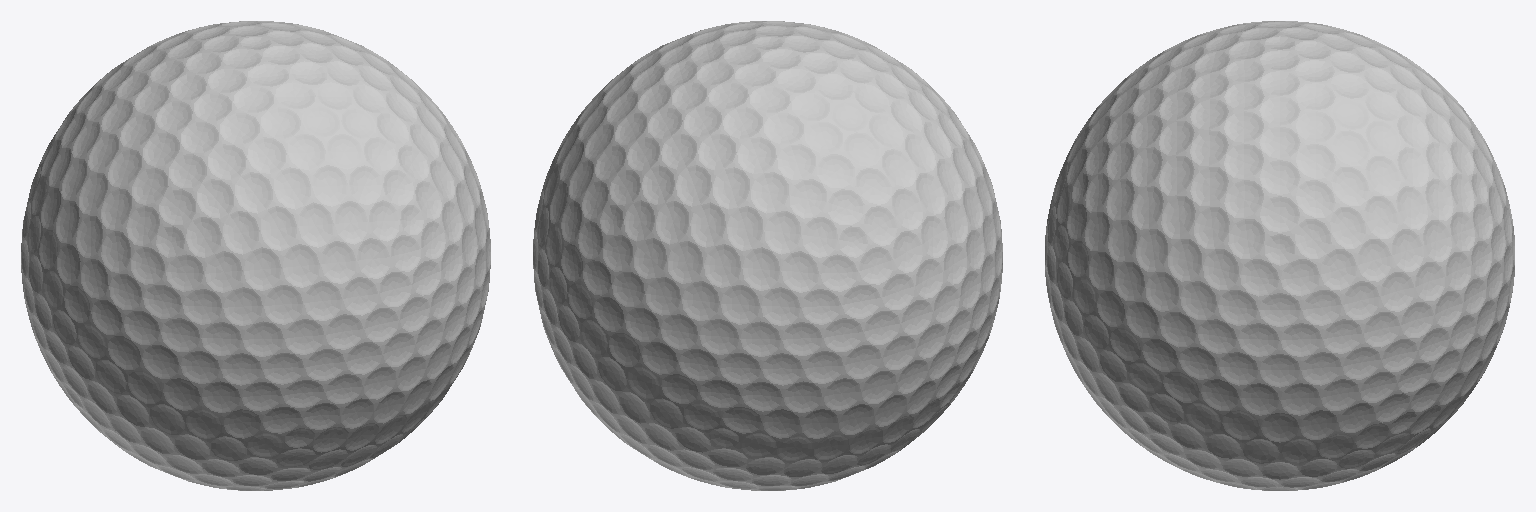
File: golf_ball.obj
3 renders of one model, left to right at view 1: azimuth 30°, elevation 25°; view 2: azimuth 150°, elevation 25°; view 3: azimuth 270°, elevation 25°, orthographic.
Parts seen in each view (by area): view 1: golfball; view 2: golfball; view 3: golfball.
Part boxes in pixels (x1,y1,x2,y2): golfball: (21, 21, 490, 490); golfball: (533, 21, 1002, 490); golfball: (1045, 21, 1514, 490).
Size of the model in its own units: 0.7948 by 0.7929 by 0.7946.